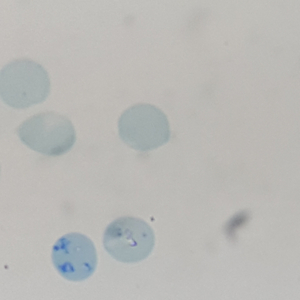aggregate reticulocyte: (48, 231, 100, 284)
erythrocyte: (11, 110, 77, 158), (115, 101, 173, 154), (101, 215, 157, 265)
punctate reticulocyte: (1, 56, 53, 111)
